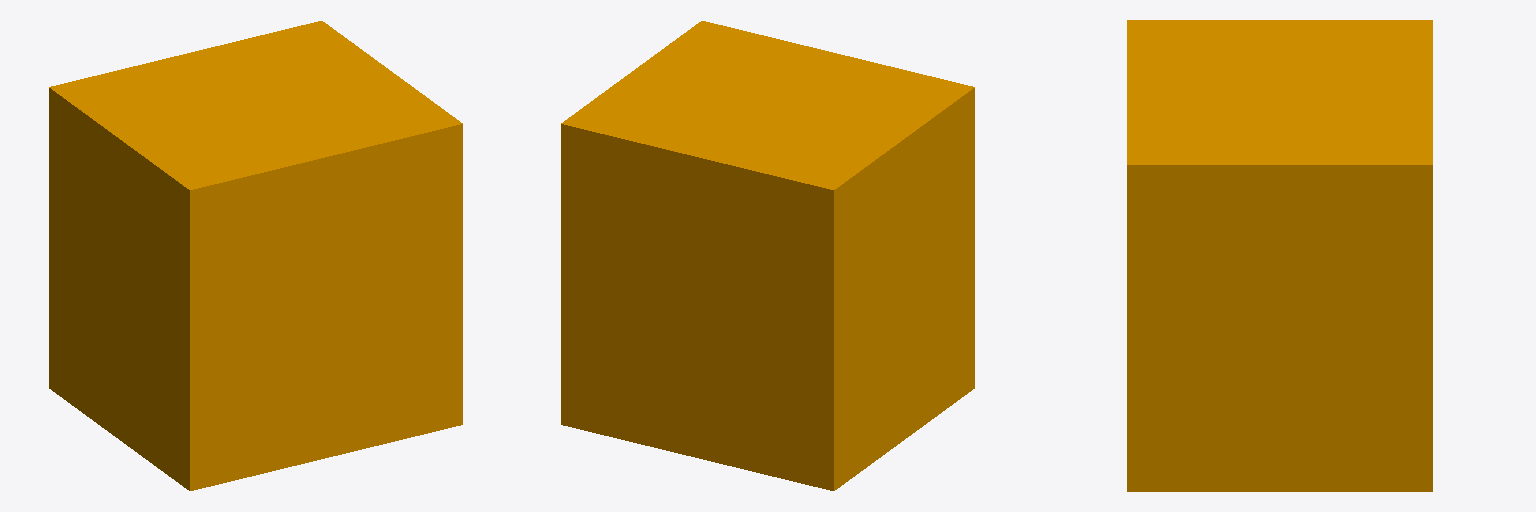
robot.urdf — object:
<robot name="object">
  <link name="object">
    <visual>
      <origin xyz="0 0 0" />
      <geometry>
        <box size="0.07600000000000001 0.068 0.08" />
      </geometry>
    </visual>

    <collision>
      <origin xyz="0 0 0" />
      <geometry>
        <box size="0.07600000000000001 0.068 0.08" />
      </geometry>
    </collision>

    <inertial>
      <mass value="0.05" />
      <inertia ixx="0.0001" ixy="0.0" ixz="0.0" iyy="0.0001" iyz="0.0" izz="0.0001" />
    </inertial>
  </link>
</robot>

--- Facts derived from the render (not from the file) ---
Views: 3 orthographic renders of the robot side by side, from view 1: azimuth 30°, elevation 25°; view 2: azimuth 150°, elevation 25°; view 3: azimuth 270°, elevation 25°.
Robot: object — 1 links, 0 joints (none); root link object; default pose: all joints at 0.
Visible links, largest first — view 1: object; view 2: object; view 3: object.
Link boxes in pixels (x1,y1,x2,y2): object: (49, 21, 462, 490); object: (561, 21, 974, 490); object: (1127, 20, 1432, 491).
Size in the robot's own frame: 0.076 by 0.068 by 0.08 metres.
Geometry: primitives only (box / cylinder / sphere), no mesh files.